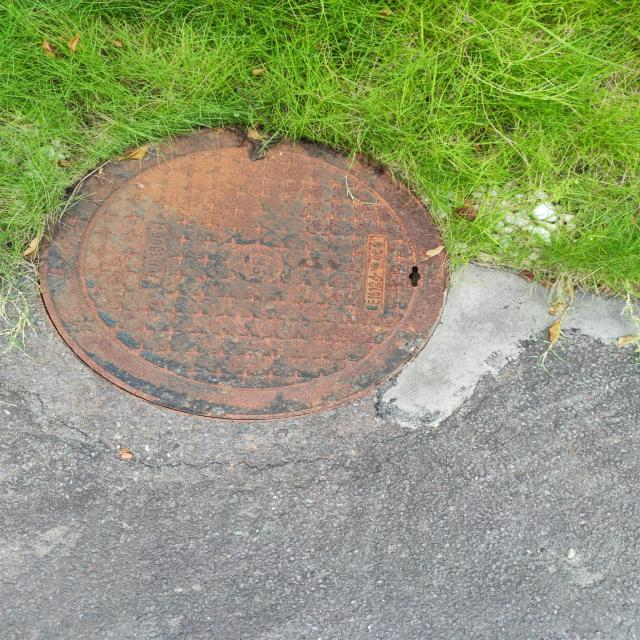Good: (34, 119, 460, 427)
